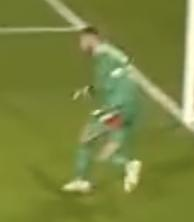goalkeeper: (51, 14, 154, 207)
